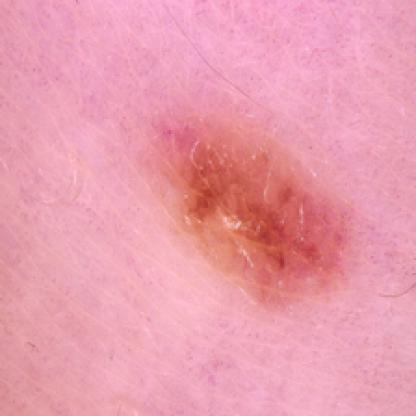benign: (160, 126, 358, 292)
